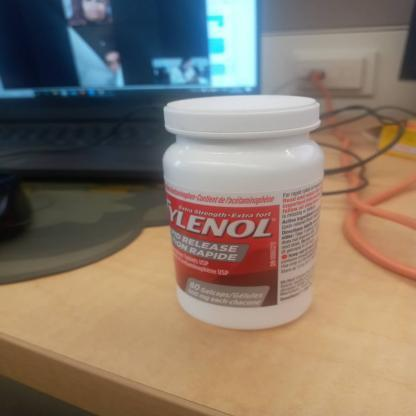jar: (163, 96, 323, 329)
